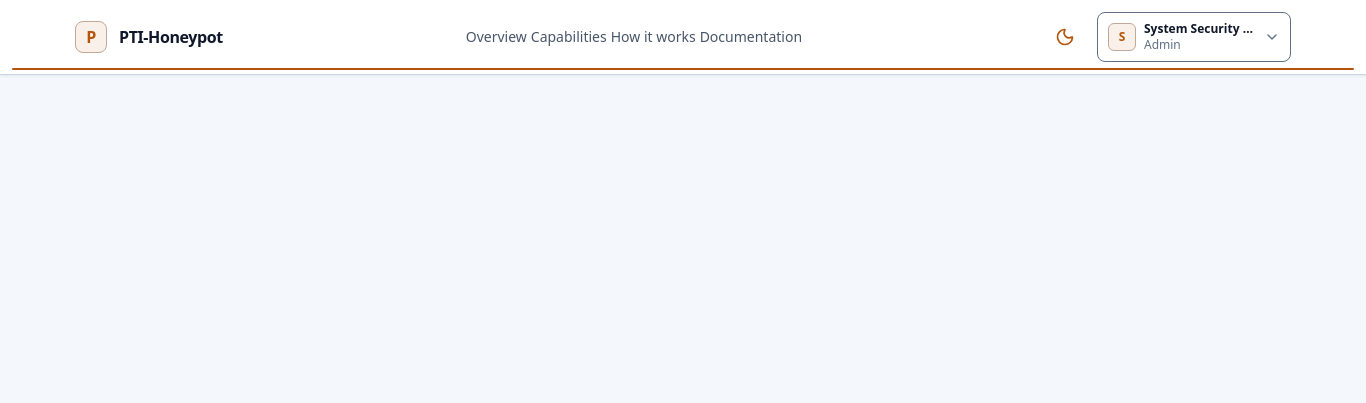
Test case: Navbar.tsx › ควรแสดงข้อมูลชื่อ Operator และปุ่มเปิดเมนูโปรไฟล์เมื่อเข้าสู่ระบบแล้ว
Note: ทดสอบคลิกเปิดเมนูโปรไฟล์
Click the button with aria-label "Open profile menu for System Security Admin".
click(1194, 37)  # box [1097, 12, 1291, 62]
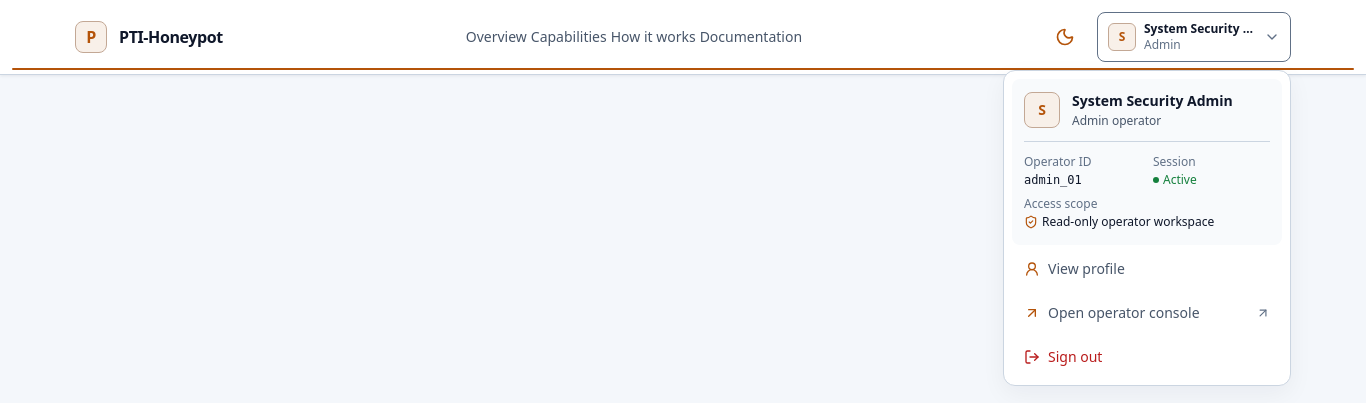
Result: the menu item "View profile" is shown at [1024, 259, 1125, 278]
Result: the menu item "Open operator console" is shown at [1024, 303, 1270, 322]
Result: the menu item "Sign out" is shown at [1012, 337, 1282, 377]
